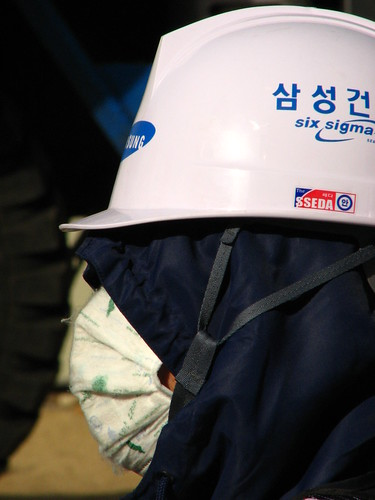person hardhat: (58, 5, 375, 499)
